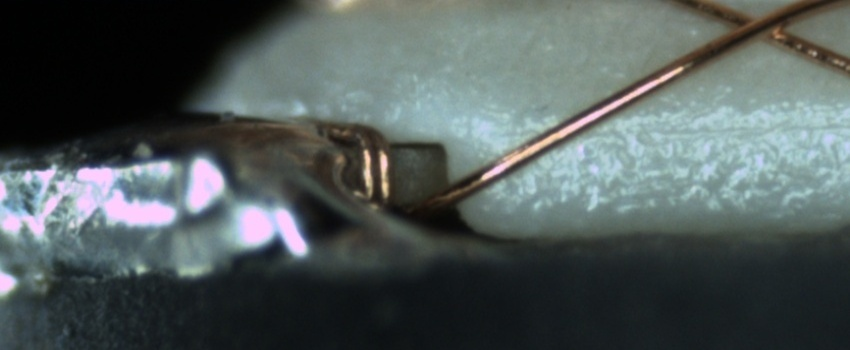CL: (714, 2, 814, 53)
DL: (551, 101, 849, 165)
TE: (303, 114, 398, 211)
